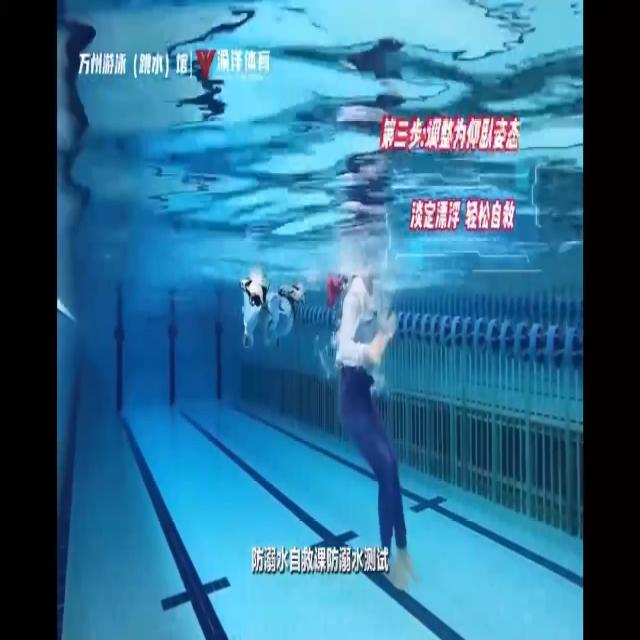Drowning: (335, 276, 418, 595)
